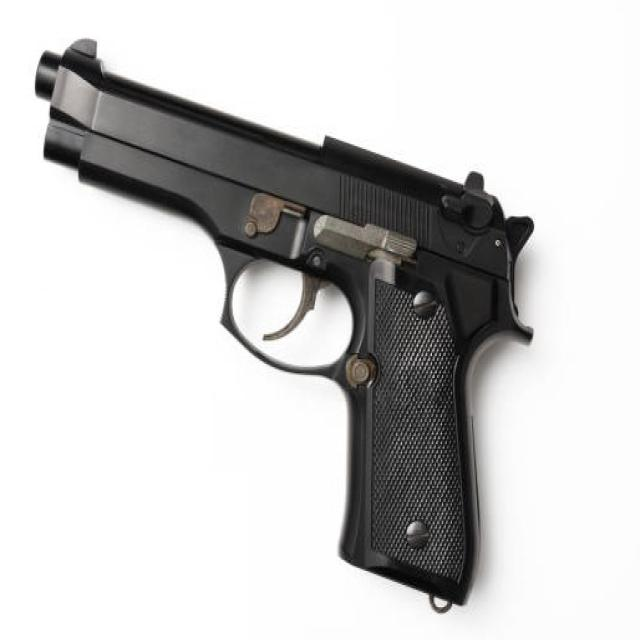pistol: (30, 29, 541, 628)
